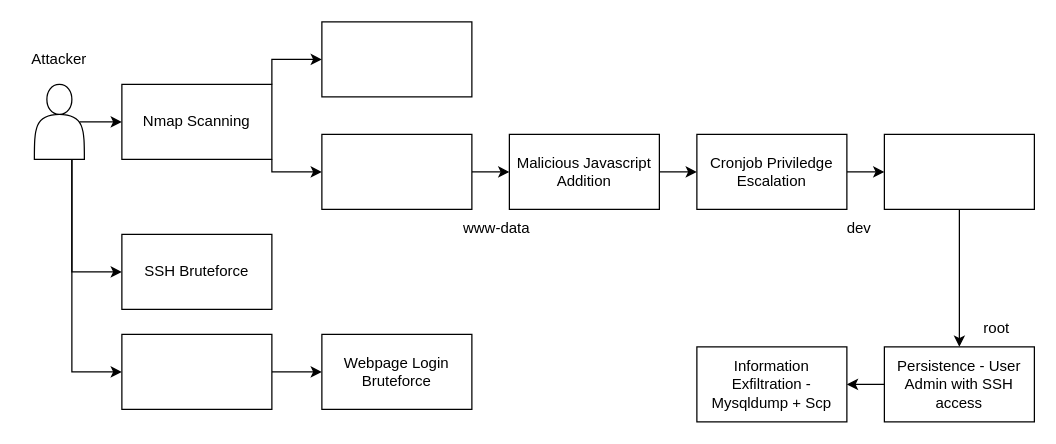
The diagram is 1056 pixels wide and 444 high, and some of its shapes have lost their labels. Here are the shapes that lost their labels. From the top down, the centre of each, then its label:
(x=396, y=59): Path Traversal
(x=396, y=171): Remote Code Execution
(x=958, y=171): Git with Sudo Priviledge Escalation
(x=196, y=371): Web Content Discovery
